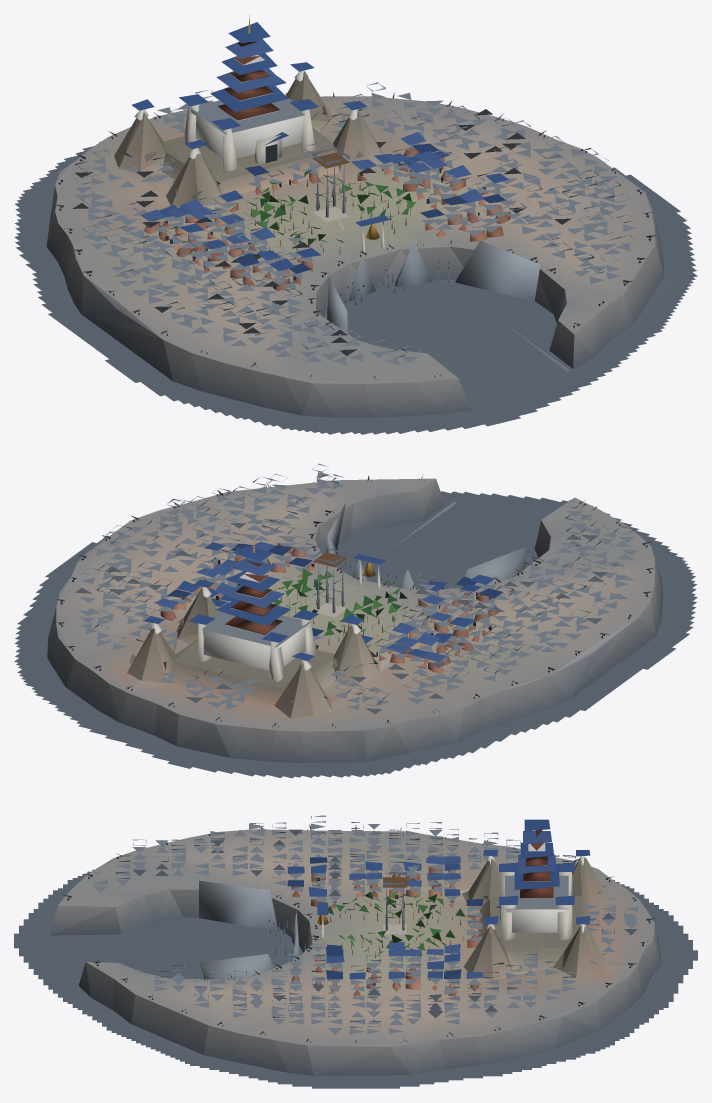
3 views of the same model, one above another, from view 1: azimuth 30°, elevation 25°; view 2: azimuth 150°, elevation 25°; view 3: azimuth 270°, elevation 25° (orthographic). The views are drawn at different scales.
Parts seen in each view (by area): view 1: BASE, VILLE_3, VILLE_2, VILLE_4; view 2: BASE, VILLE_3, VILLE_2, VILLE_4; view 3: BASE, VILLE_3, VILLE_2, VILLE_4.
Part boxes in pixels (bbox=[...]): BASE: bbox=[14, 14, 697, 434]; VILLE_3: bbox=[72, 82, 636, 365]; VILLE_2: bbox=[92, 106, 575, 313]; VILLE_4: bbox=[327, 240, 570, 371]; BASE: bbox=[14, 475, 697, 778]; VILLE_3: bbox=[75, 463, 638, 714]; VILLE_2: bbox=[105, 504, 553, 701]; VILLE_4: bbox=[326, 502, 526, 589]; BASE: bbox=[14, 819, 697, 1088]; VILLE_3: bbox=[93, 815, 637, 1034]; VILLE_2: bbox=[232, 832, 599, 1008]; VILLE_4: bbox=[72, 880, 300, 980].
Bounding box in the file's own units: 60 × 17.32 × 70.
